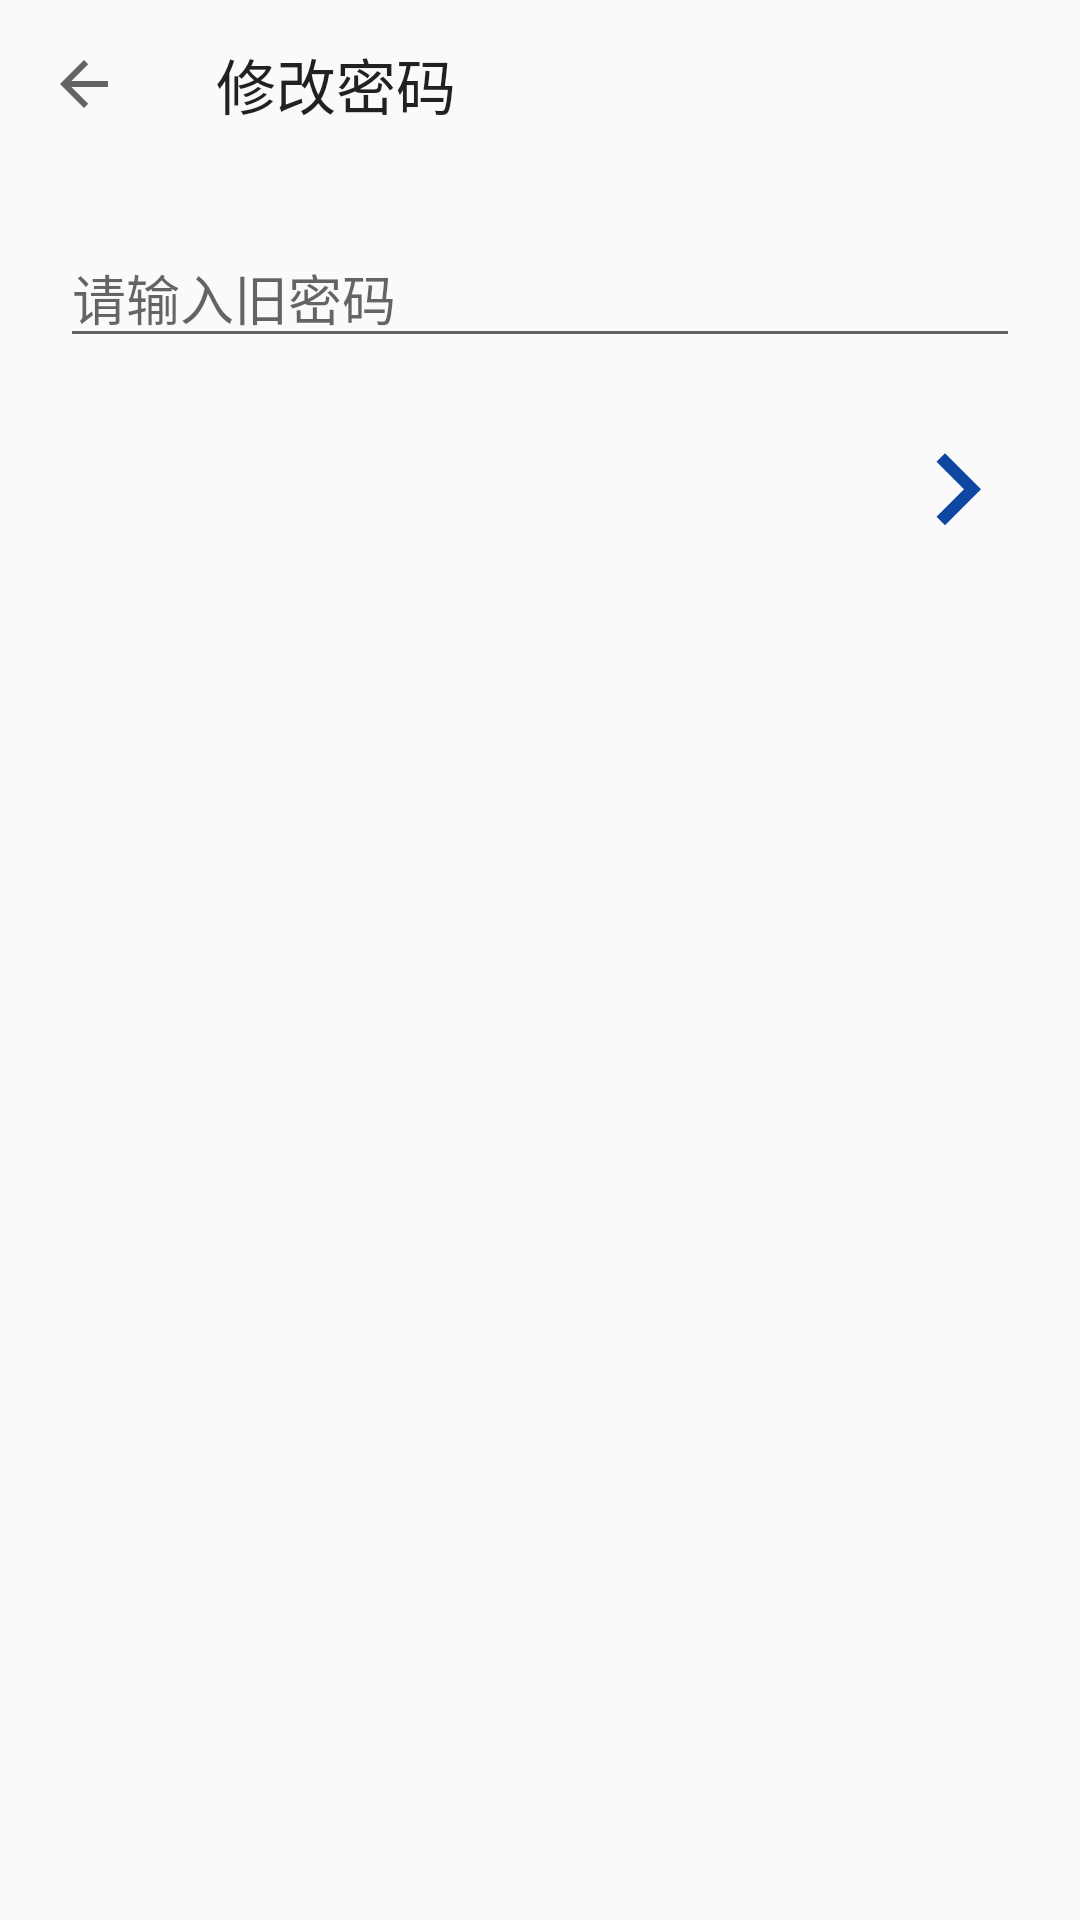

Locate icon controls on the screen. Image size 1080×1920, boxes as (x1, y1, x2, y2).
下一步: (936, 453, 981, 525)
